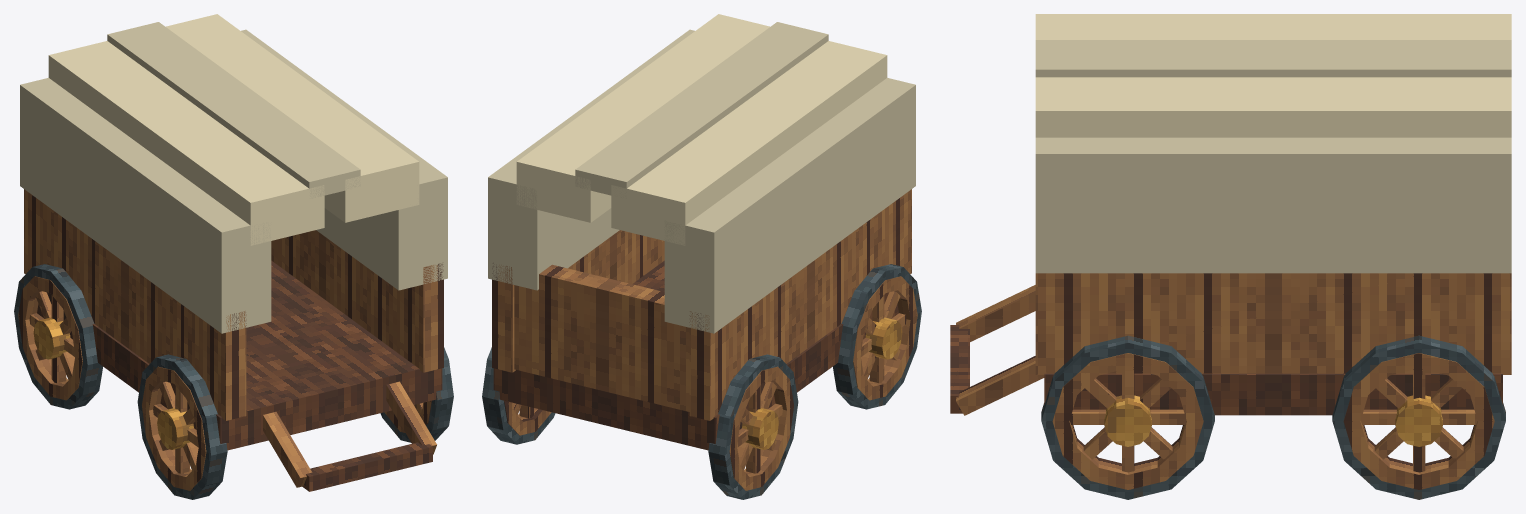
3 renders of one model, left to right at view 1: azimuth 30°, elevation 25°; view 2: azimuth 150°, elevation 25°; view 3: azimuth 270°, elevation 25°, orthographic. The views are drawn at different scales.
Visible parts, largest first — view 1: body_linen, body_oak, body_cream, body_wood_dark, body_iron, body_oak_light, body_brass; view 2: body_linen, body_oak, body_cream, body_wood_dark, body_iron, body_oak_light, body_brass; view 3: body_linen, body_oak, body_cream, body_iron, body_wood_dark, body_oak_light, body_brass.
Boxes of the visible parts, x1=… form: body_linen: x1=20, y1=22, x2=447, y2=333; body_oak: x1=18, y1=189, x2=443, y2=490; body_cream: x1=48, y1=14, x2=419, y2=245; body_wood_dark: x1=37, y1=260, x2=442, y2=491; body_iron: x1=14, y1=264, x2=453, y2=499; body_oak_light: x1=29, y1=291, x2=423, y2=473; body_brass: x1=33, y1=317, x2=193, y2=449; body_linen: x1=488, y1=22, x2=915, y2=333; body_oak: x1=492, y1=189, x2=917, y2=490; body_cream: x1=516, y1=14, x2=887, y2=245; body_wood_dark: x1=493, y1=260, x2=898, y2=450; body_iron: x1=482, y1=264, x2=921, y2=499; body_oak_light: x1=512, y1=291, x2=906, y2=473; body_brass: x1=742, y1=317, x2=902, y2=449; body_linen: x1=1035, y1=40, x2=1511, y2=273; body_oak: x1=956, y1=273, x2=1511, y2=489; body_cream: x1=1035, y1=14, x2=1511, y2=137; body_iron: x1=1041, y1=335, x2=1505, y2=499; body_wood_dark: x1=950, y1=325, x2=1502, y2=415; body_oak_light: x1=1070, y1=368, x2=1477, y2=472; body_brass: x1=1104, y1=395, x2=1442, y2=446.
Bounding box in the file's own units: 1.25 × 1.48 × 2.
Materials: 8 (6 with a texture image).
